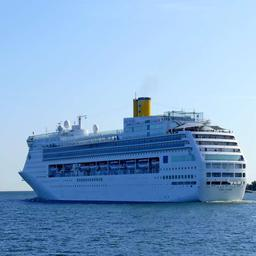Ship: (15, 95, 252, 207)
